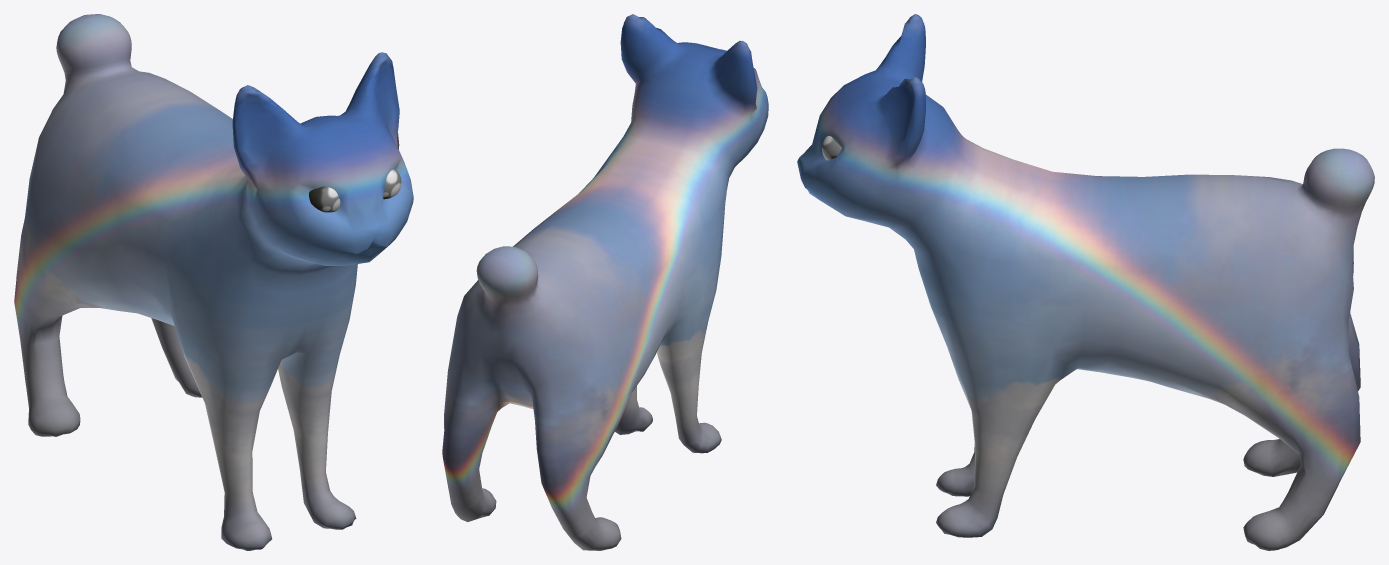
Rendered from cat_shorty_2.fbx.
The picture shows the model from 3 angles, left to right: view 1: azimuth 30°, elevation 25°; view 2: azimuth 150°, elevation 25°; view 3: azimuth 270°, elevation 25°; orthographic projection. The views are drawn at different scales.
Parts seen in each view (by area): view 1: cat_shorty; view 2: cat_shorty; view 3: cat_shorty.
Boxes of the visible parts, x1,y1,x2,y2 form: cat_shorty: (14, 14, 413, 550); cat_shorty: (442, 14, 768, 550); cat_shorty: (797, 14, 1374, 550).
Size of the model in its own units: 0.2094 by 0.487 by 0.5463.
Materials: 1 (1 with a texture image).
